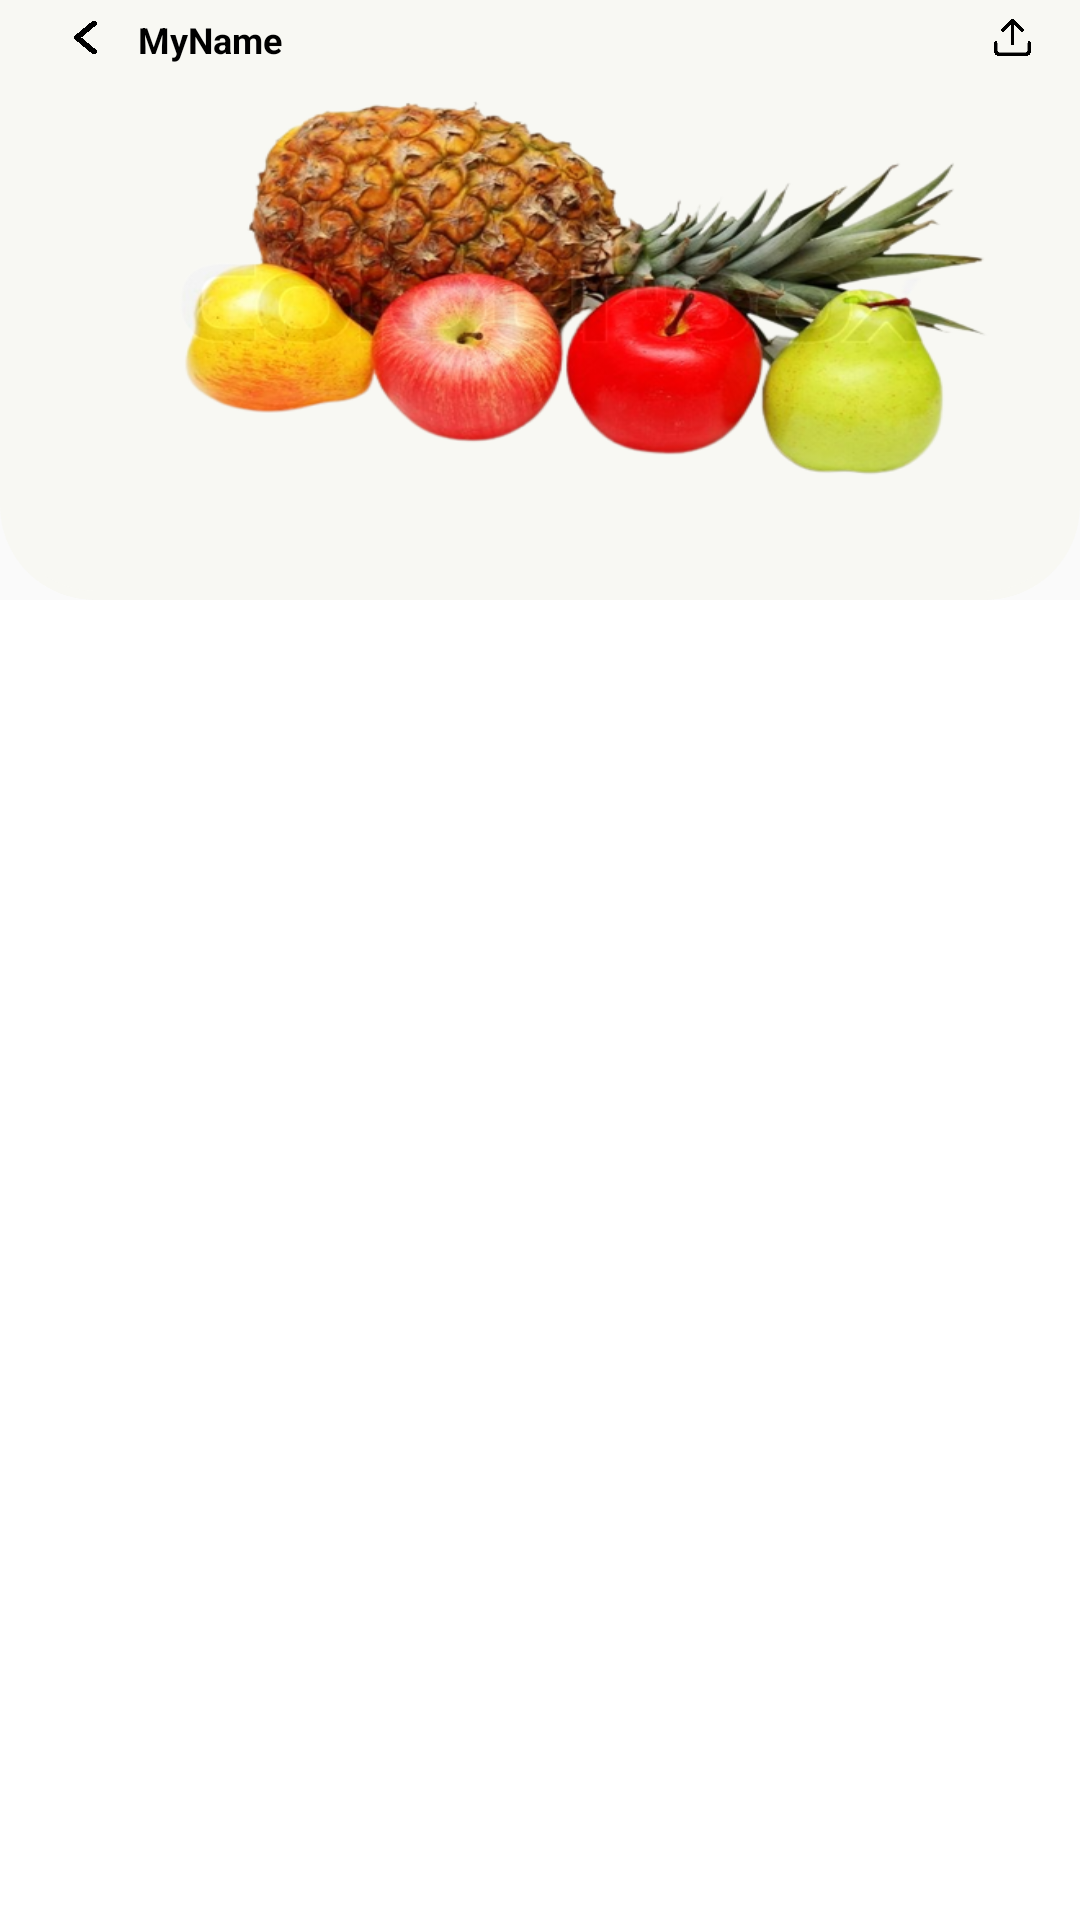

Icons on this 1080×1920 Android screen, each with the point to tap as (x=x, y=y):
arrow back: (x=85, y=37)
upload: (x=1012, y=37)
